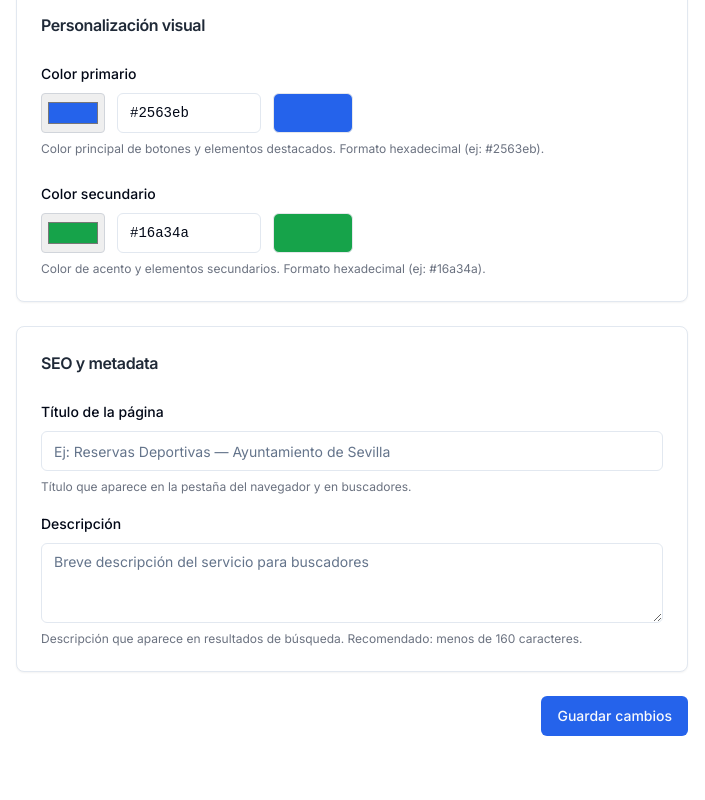
Test: Página de configuración del tenant › muestra mensaje de error si el PATCH falla
(page scrolled)
Click the button "Guardar cambios" at (615, 716), box [542, 696, 688, 736]
(page scrolled)
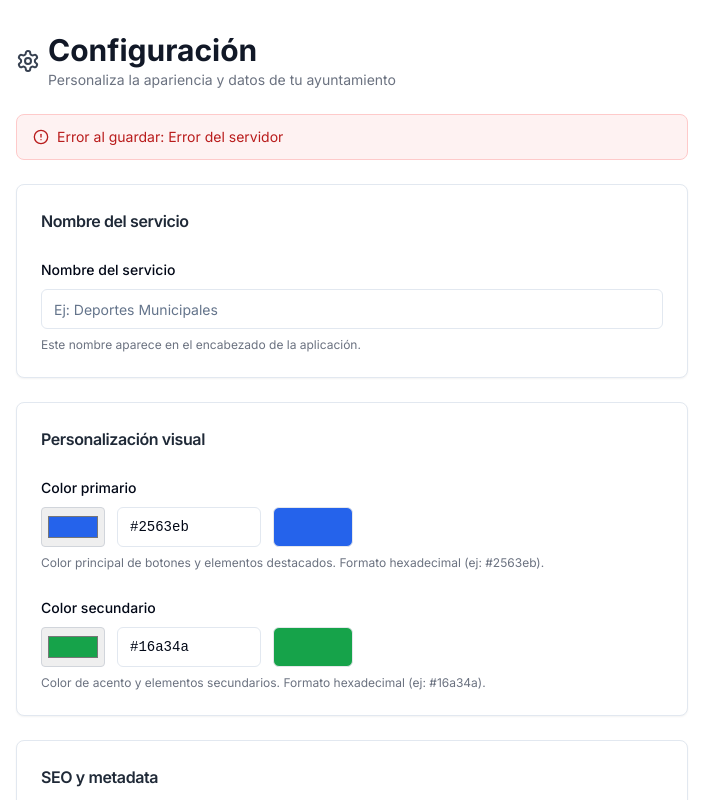
Now the text "Error al guardar: Error del servidor" is shown, box [57, 127, 283, 147]
